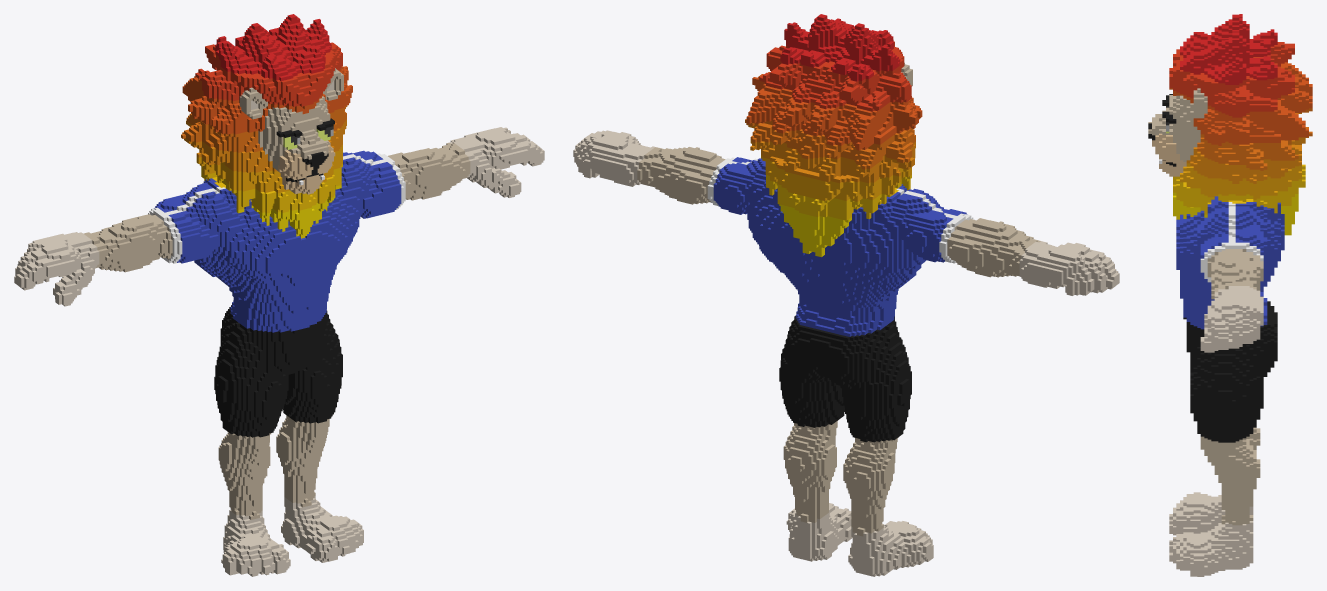
File: 700-BWCPYikE.glb
The picture shows the model from 3 angles, left to right: view 1: azimuth 30°, elevation 25°; view 2: azimuth 150°, elevation 25°; view 3: azimuth 270°, elevation 25°; orthographic projection. The views are drawn at different scales.
Visible parts, largest first — view 1: standard; view 2: standard; view 3: standard.
Boxes of the visible parts, x1,y1,x2,y2 form: standard: (14, 14, 544, 576); standard: (573, 14, 1119, 576); standard: (1148, 14, 1312, 576).
Bounding box in the file's own units: 17.2 × 16.5 × 4.7.
5 materials, 5 textured.
